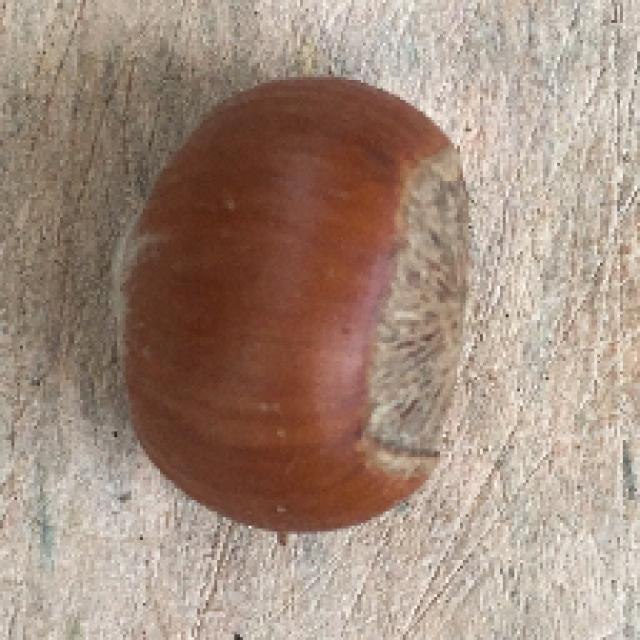damagedHazelnut: (104, 71, 475, 534)
